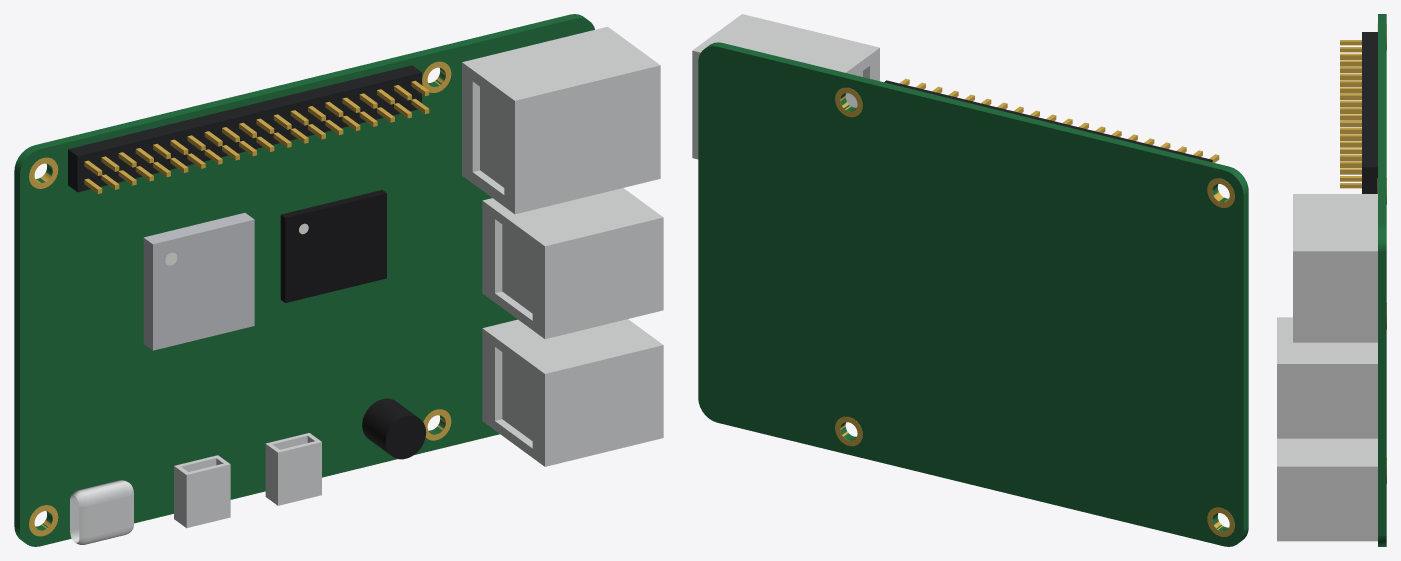
The model's file is rpi4b-1gb-bb.glb.
The picture shows the model from 3 angles, left to right: view 1: azimuth 30°, elevation 25°; view 2: azimuth 150°, elevation 25°; view 3: azimuth 270°, elevation 25°; orthographic projection. The views are drawn at different scales.
Visible parts, largest first — view 1: board, ethernet, usb_a_stack_2, usb_a_stack_1, soc, gpio, ram, gpio_pins, micro_hdmi_0, micro_hdmi_1, power_usb_c, audio_jack; view 2: board, ethernet, gpio, gpio_pins; view 3: ethernet, usb_a_stack_2, usb_a_stack_1, board, gpio_pins, gpio.
Boxes of the visible parts, <box> form: board: <box>14,14,594,546</box>; ethernet: <box>462,26,660,214</box>; usb_a_stack_2: <box>482,319,663,466</box>; usb_a_stack_1: <box>482,188,663,339</box>; soc: <box>143,213,254,350</box>; gpio: <box>68,65,421,192</box>; ram: <box>280,190,386,302</box>; gpio_pins: <box>84,80,429,193</box>; micro_hdmi_0: <box>174,455,230,528</box>; micro_hdmi_1: <box>265,433,321,505</box>; power_usb_c: <box>70,480,133,544</box>; audio_jack: <box>362,398,426,459</box>; board: <box>698,42,1248,546</box>; ethernet: <box>692,14,879,159</box>; gpio: <box>884,80,1212,162</box>; gpio_pins: <box>899,78,1219,162</box>; ethernet: <box>1293,194,1377,342</box>; usb_a_stack_2: <box>1277,438,1377,541</box>; usb_a_stack_1: <box>1277,317,1377,438</box>; board: <box>1378,14,1386,546</box>; gpio_pins: <box>1340,40,1361,188</box>; gpio: <box>1362,32,1377,193</box>.
Bounding box in the file's own units: 86.75 × 56.75 × 17.43.
